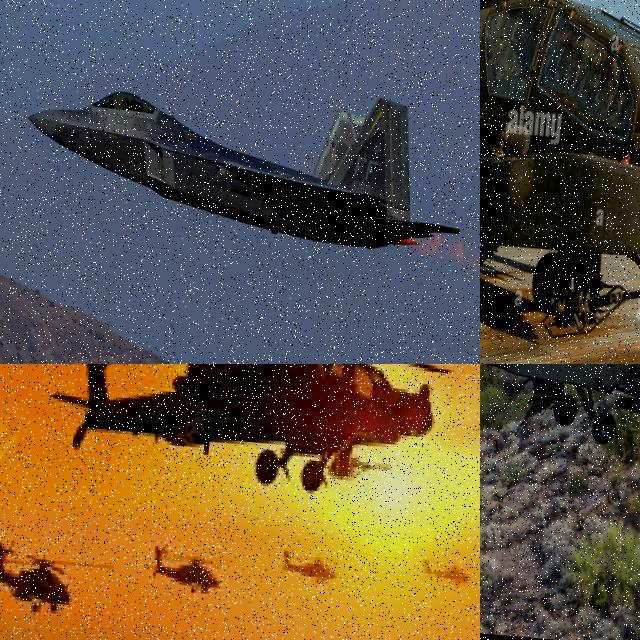Apache: (0, 364, 480, 507), (480, 0, 640, 359), (480, 364, 640, 473), (0, 530, 120, 625), (141, 542, 232, 602), (278, 540, 341, 588), (416, 552, 474, 596)
F22: (24, 65, 469, 272)
